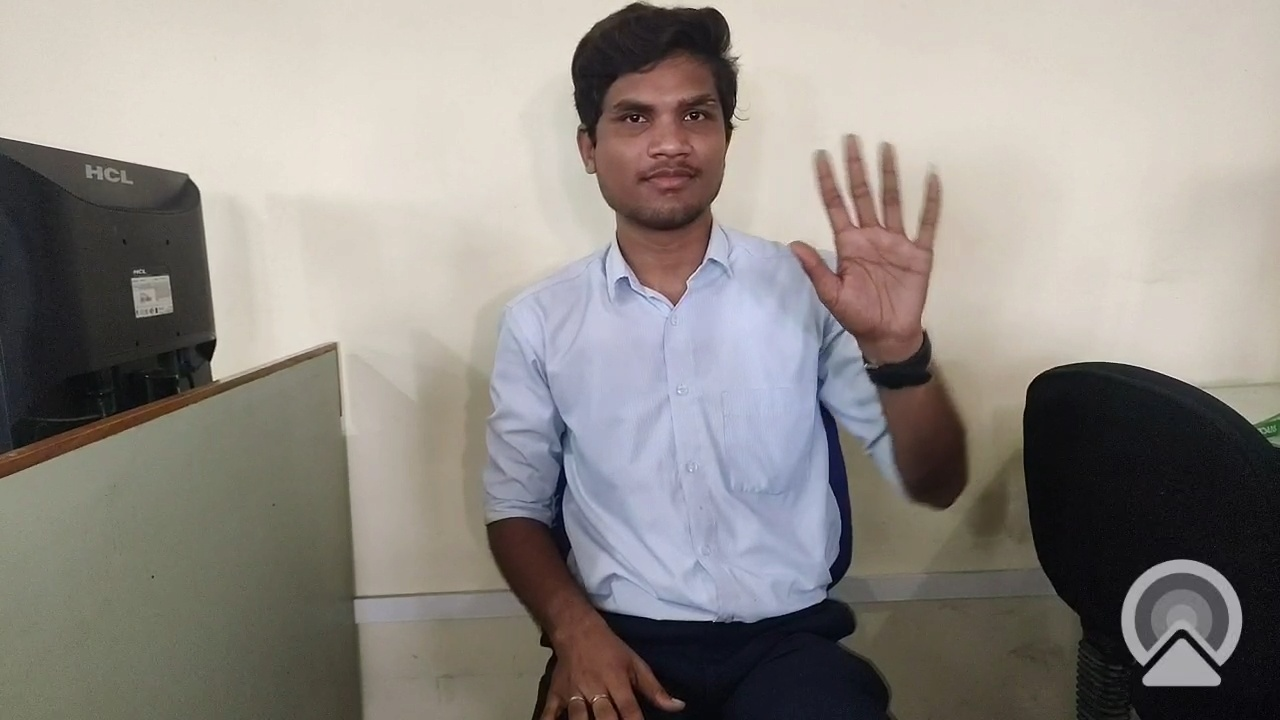Hello: (788, 122, 961, 376)
